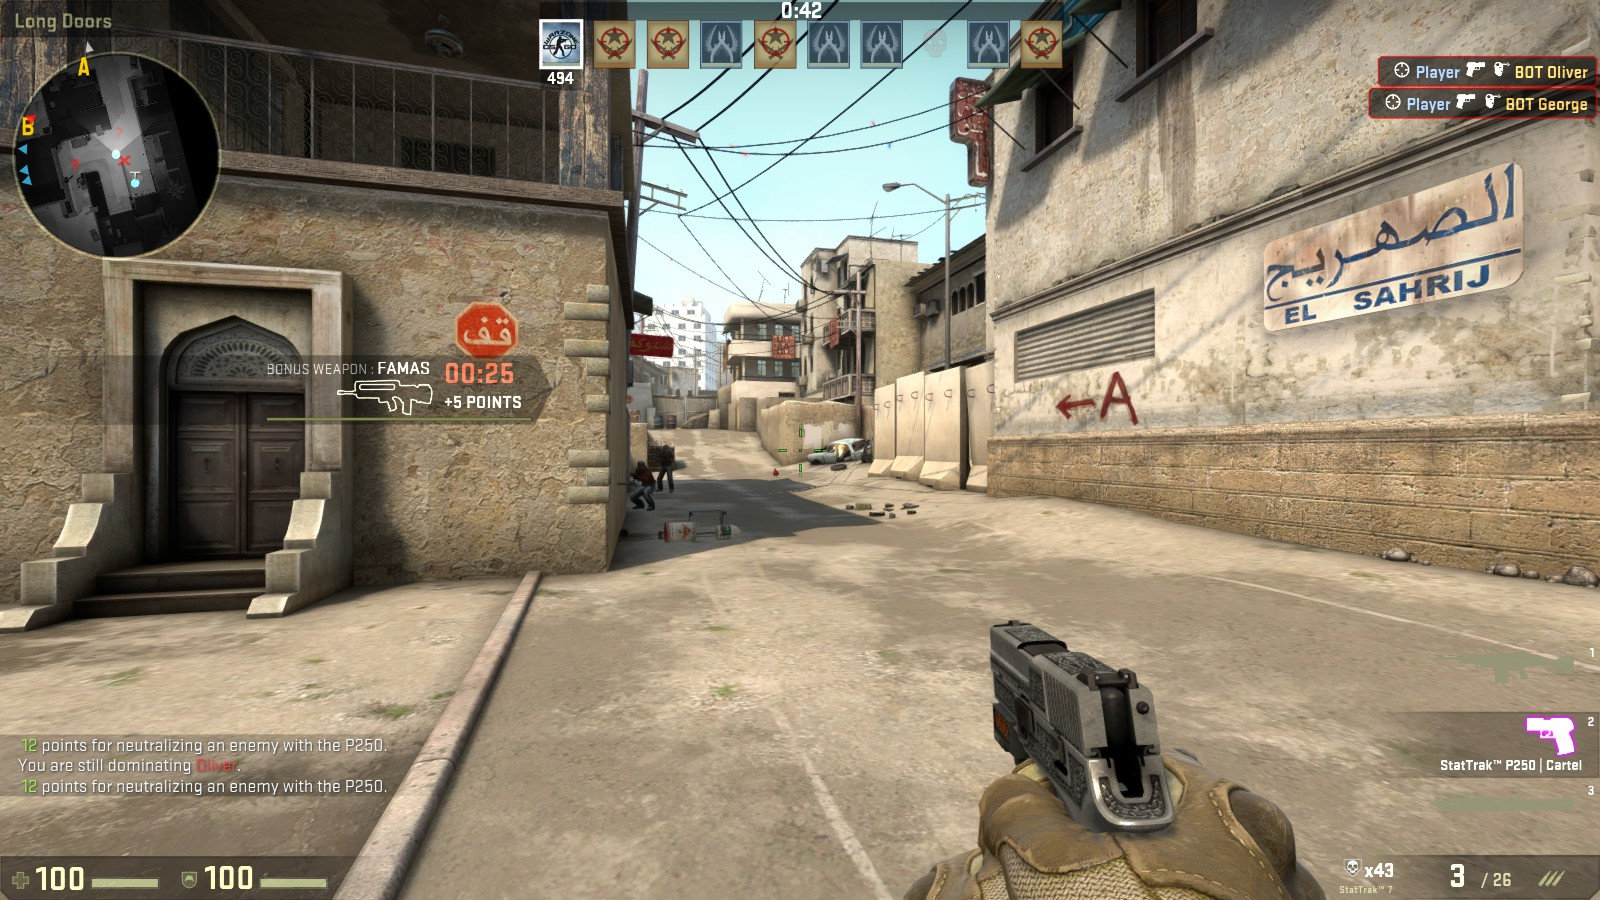t: (629, 459, 654, 510), (656, 444, 677, 493)
th: (634, 459, 647, 473), (662, 444, 671, 454)
